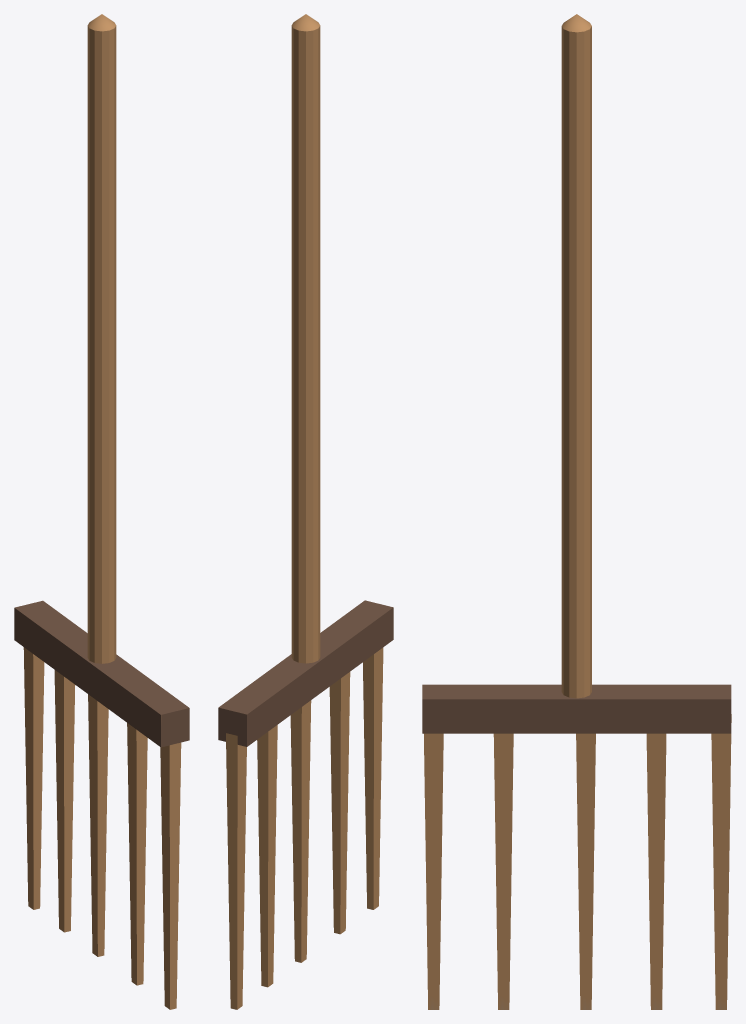
File: FBX_Herramienta.fbx
3 views of the same model, side by side, from view 1: azimuth 30°, elevation 25°; view 2: azimuth 150°, elevation 25°; view 3: azimuth 270°, elevation 25° (orthographic). The views are drawn at different scales.
Visible parts, largest first — view 1: pCylinder28; view 2: pCylinder28; view 3: pCylinder28.
Boxes of the visible parts, x1,y1,x2,y2 form: pCylinder28: (14,14,189,1009); pCylinder28: (218,14,393,1009); pCylinder28: (422,14,731,1009).
Size of the model in its own units: 8.59 by 270 by 76.06.
